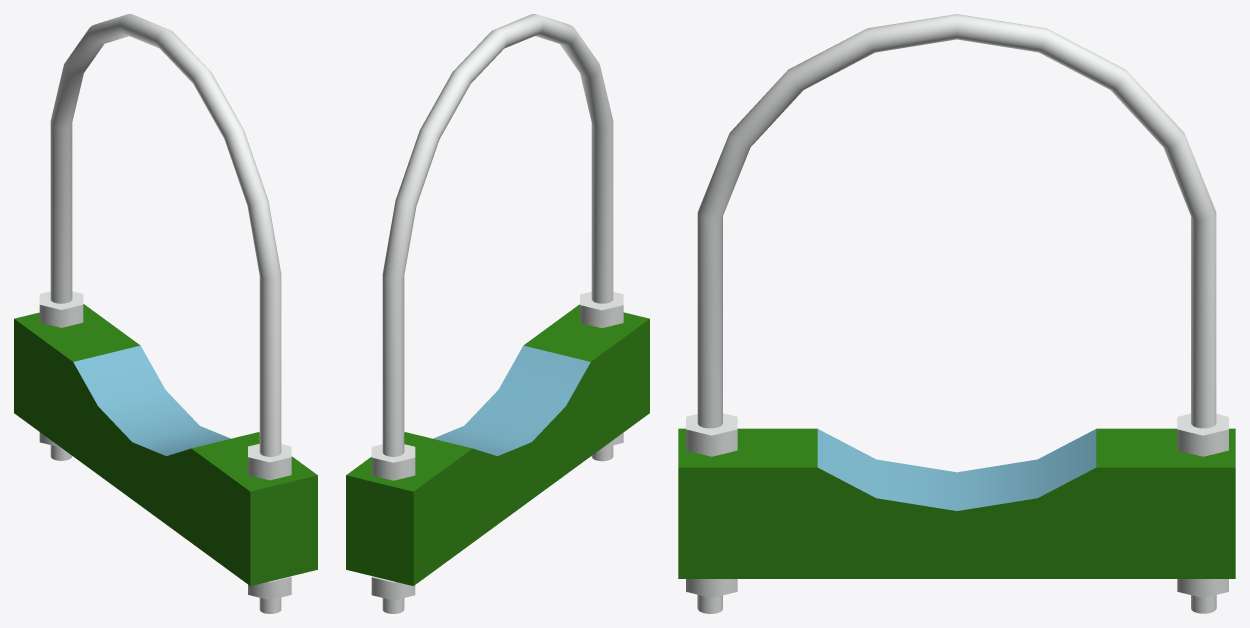
Rendered from clamp_u.obj.
3 renders of one model, left to right at view 1: azimuth 30°, elevation 25°; view 2: azimuth 150°, elevation 25°; view 3: azimuth 270°, elevation 25°, orthographic. The views are drawn at different scales.
Parts seen in each view (by area): view 1: ___, __, __.1, __.2; view 2: ___, __, __.1, __.3; view 3: ___, __, __.1, __.3, __.2.
Boxes of the visible parts, x1,y1,x2,y2 form: ___: [14, 304, 317, 585]; __: [39, 14, 281, 613]; __.1: [248, 443, 291, 480]; __.2: [248, 576, 291, 599]; ___: [346, 304, 649, 585]; __: [371, 14, 613, 613]; __.1: [580, 291, 623, 328]; __.3: [371, 576, 415, 600]; ___: [678, 428, 1235, 578]; __: [697, 14, 1228, 613]; __.1: [686, 413, 737, 456]; __.3: [1177, 579, 1228, 597]; __.2: [686, 579, 737, 597].
Size of the model in its own units: 15.24 by 109 by 92.53.
